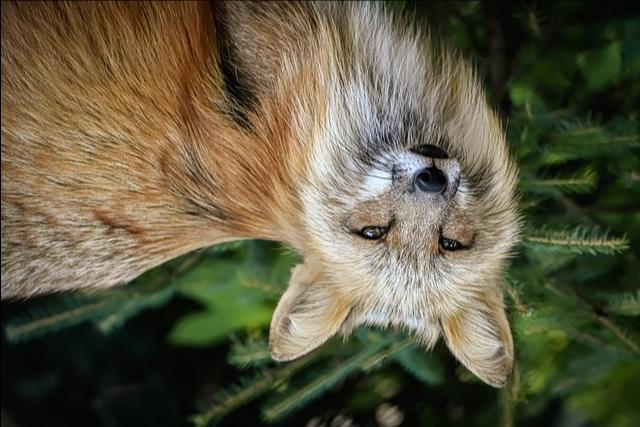Non_Gorille: (96, 16, 578, 426)
